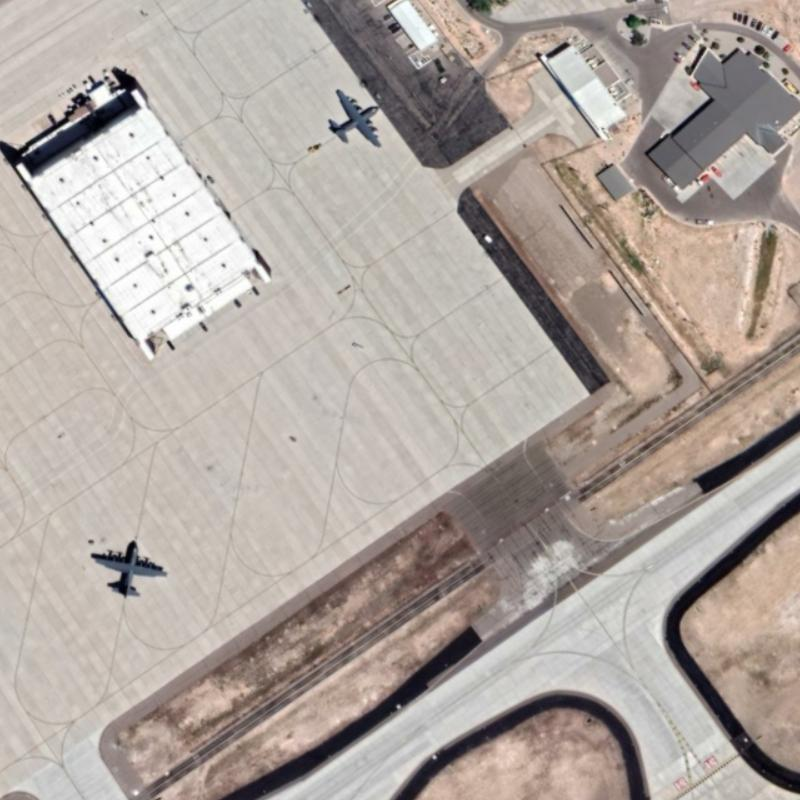A2: (85, 538, 170, 602), (324, 83, 386, 148)
